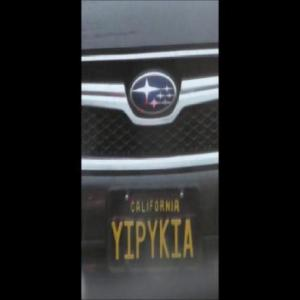Plate: (107, 188, 197, 261)
